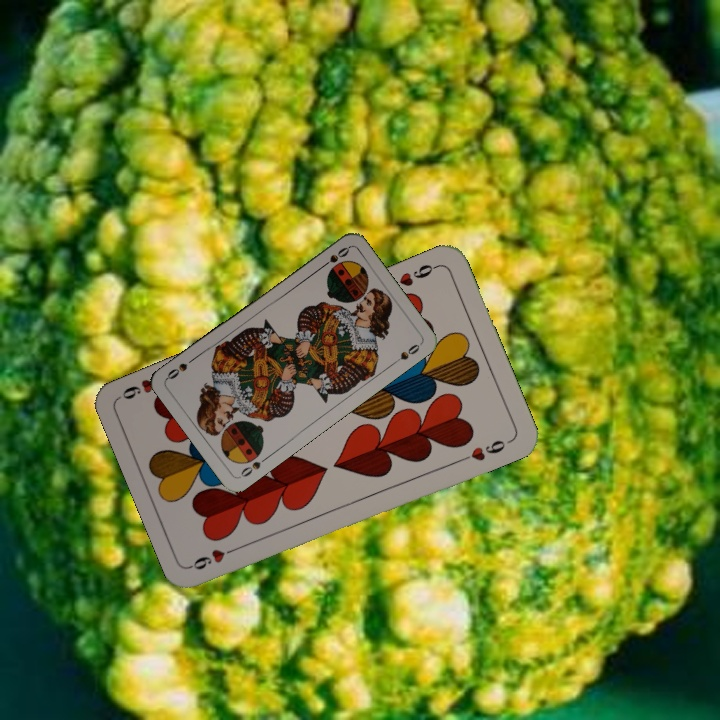H9: (187, 541, 244, 573), (385, 260, 442, 290)
SO: (316, 243, 352, 272), (236, 452, 271, 480)
